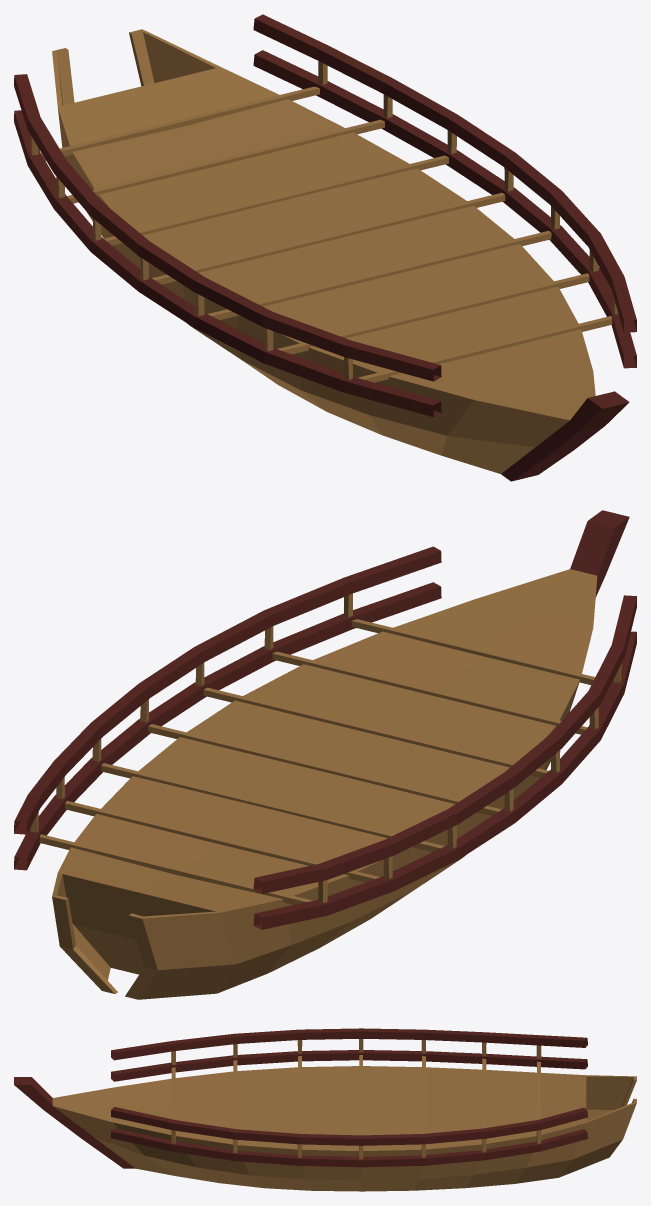
File: kobaya.glb
The picture shows the model from 3 angles, top to bottom: view 1: azimuth 30°, elevation 25°; view 2: azimuth 150°, elevation 25°; view 3: azimuth 270°, elevation 25°; orthographic projection. The views are drawn at different scales.
Parts seen in each view (by area): view 1: kobaya_hull, kobaya_rail_upper, kobaya_rail_lower, kobaya_rail_aug, kobaya_tail, kobaya_front; view 2: kobaya_hull, kobaya_rail_upper, kobaya_rail_aug, kobaya_rail_lower, kobaya_hull.001, kobaya_front, kobaya_tail; view 3: kobaya_hull, kobaya_rail_upper, kobaya_rail_lower, kobaya_rail_aug, kobaya_tail, kobaya_front.
Boxes of the visible parts, x1=… form: kobaya_hull: x1=57, y1=67, x2=595, y2=473; kobaya_rail_upper: x1=14, y1=14, x2=636, y2=381; kobaya_rail_lower: x1=14, y1=50, x2=636, y2=417; kobaya_rail_aug: x1=30, y1=61, x2=618, y2=382; kobaya_tail: x1=52, y1=29, x2=220, y2=106; kobaya_front: x1=501, y1=391, x2=629, y2=481; kobaya_hull: x1=52, y1=569, x2=597, y2=999; kobaya_rail_upper: x1=14, y1=546, x2=636, y2=893; kobaya_rail_aug: x1=30, y1=593, x2=621, y2=904; kobaya_rail_lower: x1=14, y1=582, x2=636, y2=929; kobaya_hull.001: x1=62, y1=874, x2=215, y2=974; kobaya_front: x1=570, y1=510, x2=629, y2=597; kobaya_tail: x1=52, y1=873, x2=219, y2=993; kobaya_hull: x1=52, y1=1066, x2=636, y2=1191; kobaya_rail_upper: x1=111, y1=1028, x2=587, y2=1145; kobaya_rail_lower: x1=111, y1=1050, x2=587, y2=1167; kobaya_rail_aug: x1=171, y1=1039, x2=541, y2=1159; kobaya_tail: x1=586, y1=1075, x2=636, y2=1122; kobaya_front: x1=14, y1=1077, x2=135, y2=1168.
Size of the model in its own units: 3.76 by 1.44 by 8.98.
